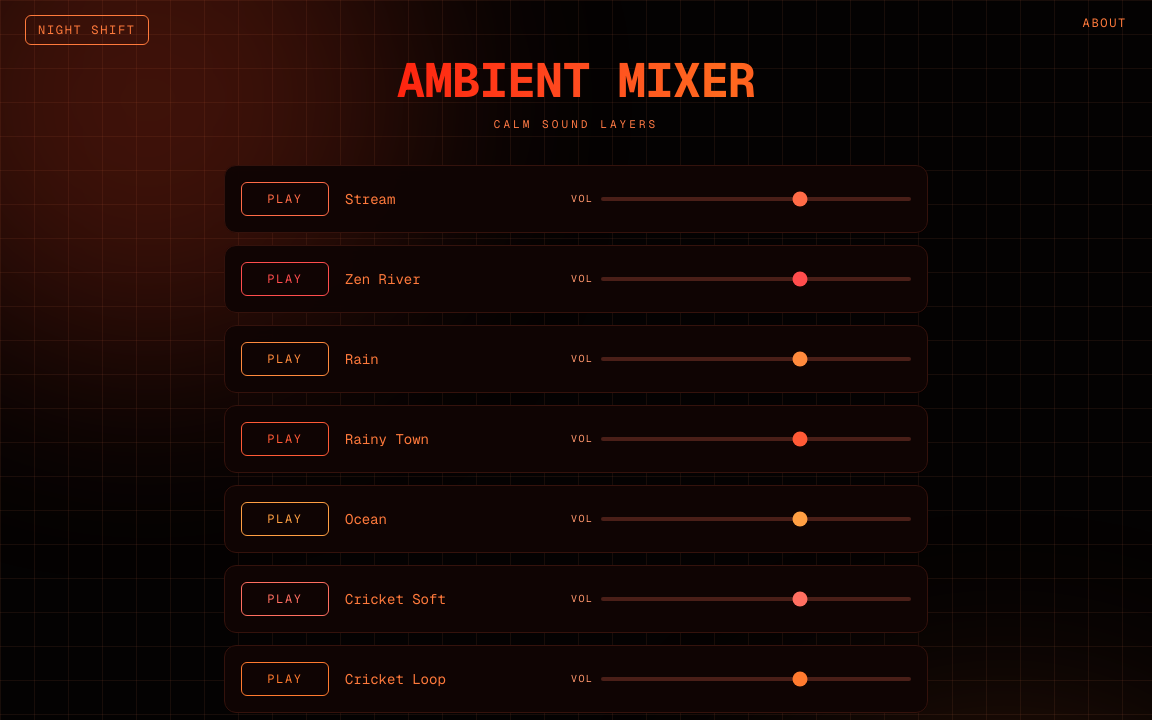
Home page audio state logic › hydrates Night Shift theme from URL and keeps toggle in sync
Click the button with aria-label "Theme toggle" at (87, 30), box [25,15,149,45]
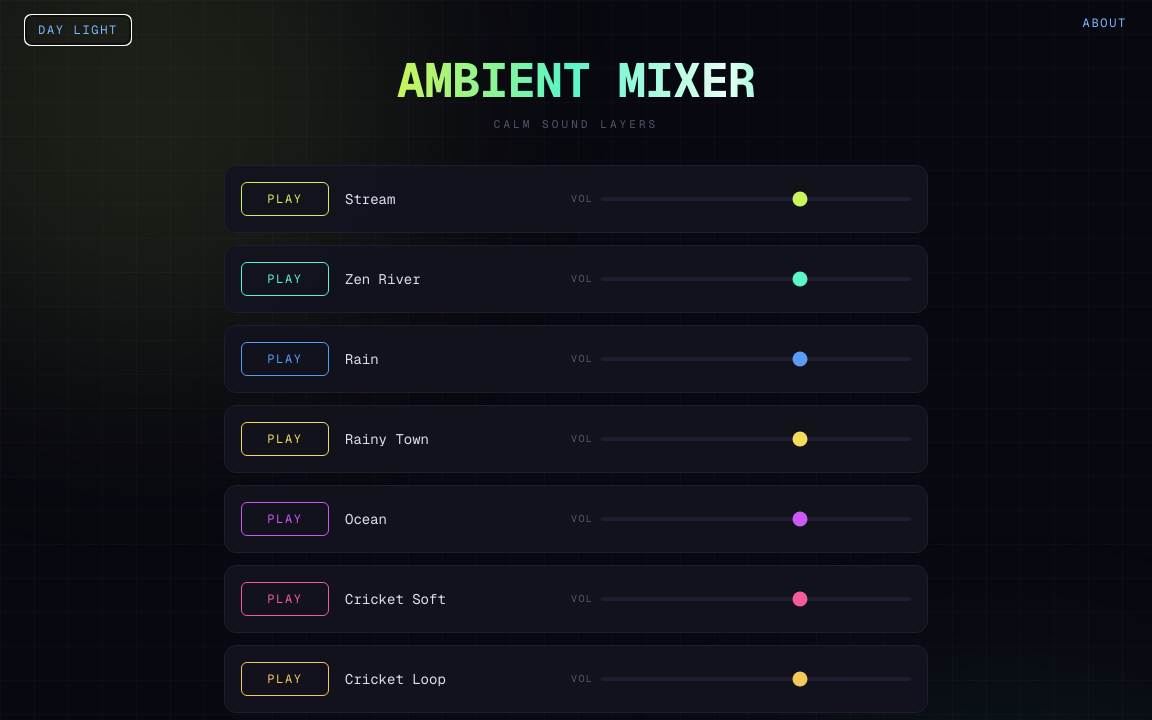
Result: the button with aria-label "Theme toggle" reads "Day Light" at [25,15,131,45]
